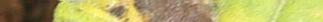Tomato Early blight leaf: (62, 0, 323, 22)
